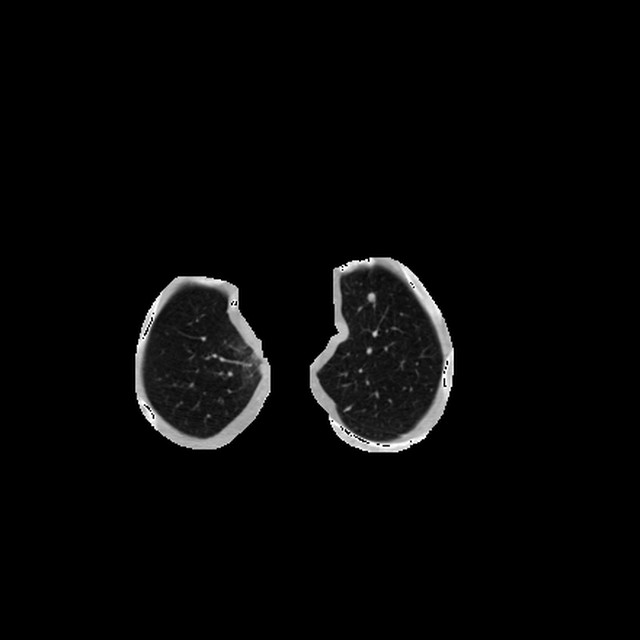PN: (365, 291, 377, 303)
